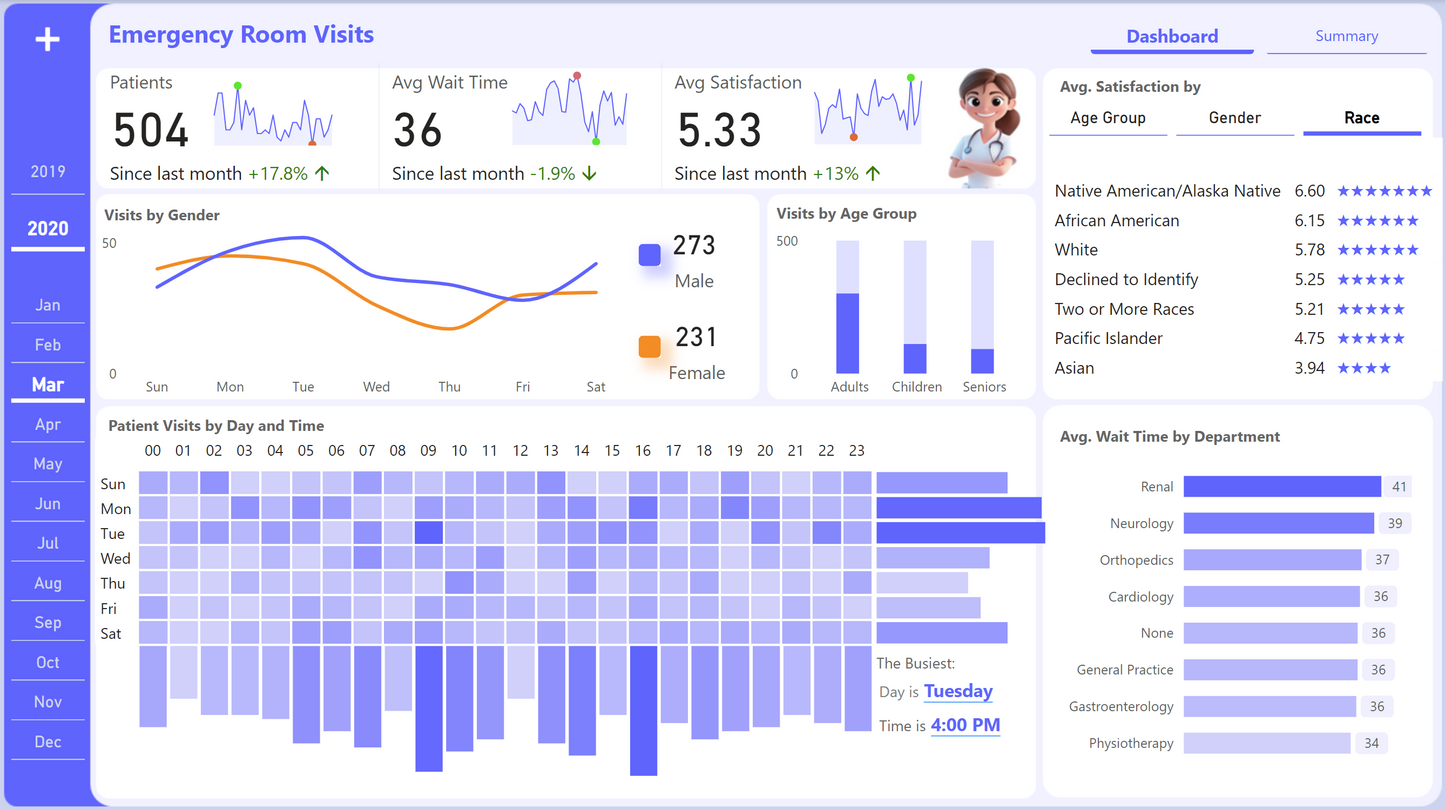

The page's visual inventory and layout, read from the dashboard file:
{"tool":"powerbi","page":{"name":"Dashboard","canvas":[1280,720],"ordinal":0},"visuals":[{"type":"cardVisual","fields":{"Data":["All Measures.Patients Visits","All Measures.Avg Wait Time","All Measures.Avg Satisfaction Score"]},"box":[82.9,58.6,745.7,115.7],"z":0},{"type":"advancedSlicerVisual","fields":{"Values":["Calendar.Year"]},"box":[0,124.3,87.1,98.7],"z":1000},{"type":"advancedSlicerVisual","fields":{"Values":["Calendar.Month"]},"box":[0,237,87.1,460],"z":2000},{"type":"areaChart","fields":{"Category":["Calendar.Day"],"Y":["All Measures.Patients Visits","All Measures.Patients Visits Max Value","All Measures.Patients Visits Min Value"]},"box":[170,51.4,190,80],"z":3000},{"type":"areaChart","fields":{"Category":["Calendar.Day"],"Y":["All Measures.Avg Wait Time","All Measures.Avg Wait Time Max Value","All Measures.Avg Wait Time Min Value"]},"box":[437.1,51.4,180,80],"z":4000},{"type":"areaChart","fields":{"Category":["Calendar.Day"],"Y":["All Measures.Avg Satisfaction Score","All Measures.Avg Satisfaction Score Max Value","All Measures.Avg Satisfaction Score Min Value"]},"box":[695.7,51.4,180,80],"z":5000},{"type":"lineChart","fields":{"Y":["All Measures.Patients Visits"],"Category":["Calendar.Weekday"],"Series":["HospitalER.Gender"]},"box":[87.3,175.5,483.6,184.5],"z":6000},{"type":"textbox","box":[98.8,175,220,28.8],"z":7000},{"type":"card","fields":{"Values":["CountNonNull(HospitalER.Gender)"]},"box":[589.2,186.1,75.5,78.1],"z":8000},{"type":"card","fields":{"Values":["CountNonNull(HospitalER.Gender)"]},"box":[589.2,262.5,75.5,82.5],"z":9000},{"type":"shape","box":[559.3,207.2,39.5,39.5],"z":10000},{"type":"shape","box":[559.3,282.7,39.5,40.4],"z":11000},{"type":"clusteredColumnChart","fields":{"Y":["All Measures.Patients Visit Dummy","All Measures.Patients Visits"],"Category":["HospitalER.Age Range"]},"box":[680,175.5,235.5,180],"z":12000},{"type":"tableEx","fields":{"Values":["HospitalER.Race","All Measures.Avg Satisfaction Score","All Measures.Score Rating"]},"box":[922,132,358,223],"z":13000},{"type":"advancedSlicerVisual","fields":{"Values":["Sat_Param.Sat_Param"]},"box":[935,99,315,44],"z":14000},{"type":"textbox","box":[937,70,220,29],"z":15000},{"type":"clusteredBarChart","fields":{"Y":["All Measures.Avg Wait Time"],"Category":["HospitalER.Department Referral"]},"box":[922,391.6,358.2,324.9],"z":16000},{"type":"textbox","box":[937,363,238,29],"z":17000},{"type":"pivotTable","fields":{"Rows":["Calendar.Weekday"],"Columns":["HospitalER.Hour"],"Values":["All Measures.Patients Visits"]},"box":[86.7,392.2,698.9,187.8],"z":18000},{"type":"textbox","box":[98.9,363.3,238.9,28.9],"z":19000},{"type":"clusteredBarChart","fields":{"Category":["Calendar.Weekday"],"Y":["All Measures.Patients Visits"]},"box":[774.4,413,147.8,163],"z":20000},{"type":"columnChart","fields":{"Y":["All Measures.Patients Visits"],"Category":["HospitalER.Hour"]},"box":[126.4,559.3,649.8,159.8],"z":21000},{"type":"textbox","box":[790.2,580,116.9,32.3],"z":22000},{"type":"textbox","box":[790,605.5,129.1,34.5],"z":23000},{"type":"textbox","box":[790.2,635,132,37.3],"z":24000},{"type":"textbox","box":[110,13,227,38],"z":25000},{"type":"pageNavigator","box":[925.5,6.4,340,50],"z":26000},{"type":"image","box":[5.5,6.4,77.3,78.2],"z":27000}]}

Visuals, with their boxes in screenshot pixels (x1, y1, x2, y2), scaled from the page's 1280x720 canvas onto the 1445x810 screenshot:
cardVisual - All Measures.Patients Visits x All Measures.Avg Wait Time: [94,66,935,196]
advancedSlicerVisual - Calendar.Year: [0,140,98,251]
advancedSlicerVisual - Calendar.Month: [0,267,98,784]
areaChart - Calendar.Day x All Measures.Patients Visits: [192,58,406,148]
areaChart - Calendar.Day x All Measures.Avg Wait Time: [493,58,697,148]
areaChart - Calendar.Day x All Measures.Avg Satisfaction Score: [785,58,989,148]
lineChart - All Measures.Patients Visits x Calendar.Weekday: [99,197,644,405]
textbox: [112,197,360,229]
card - CountNonNull(HospitalER.Gender): [665,209,750,297]
card - CountNonNull(HospitalER.Gender): [665,295,750,388]
shape: [631,233,676,278]
shape: [631,318,676,363]
clusteredColumnChart - All Measures.Patients Visit Dummy x All Measures.Patients Visits: [768,197,1034,400]
tableEx - HospitalER.Race x All Measures.Avg Satisfaction Score: [1041,148,1444,399]
advancedSlicerVisual - Sat_Param.Sat_Param: [1056,111,1411,161]
textbox: [1058,79,1306,111]
clusteredBarChart - All Measures.Avg Wait Time x HospitalER.Department Referral: [1041,441,1444,806]
textbox: [1058,408,1326,441]
pivotTable - Calendar.Weekday x HospitalER.Hour: [98,441,887,652]
textbox: [112,409,381,441]
clusteredBarChart - Calendar.Weekday x All Measures.Patients Visits: [874,465,1041,648]
columnChart - All Measures.Patients Visits x HospitalER.Hour: [143,629,876,809]
textbox: [892,652,1024,689]
textbox: [892,681,1038,720]
textbox: [892,714,1041,756]
textbox: [124,15,380,57]
pageNavigator: [1045,7,1429,63]
image: [6,7,93,95]
